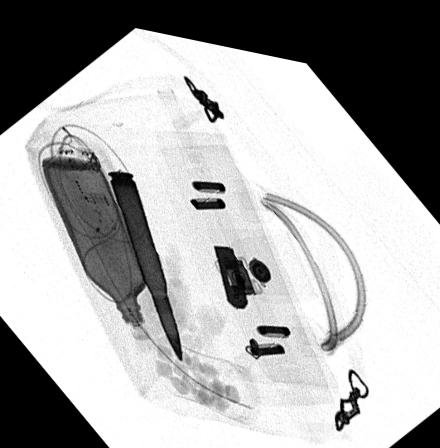Bullet: (106, 164, 183, 355)
